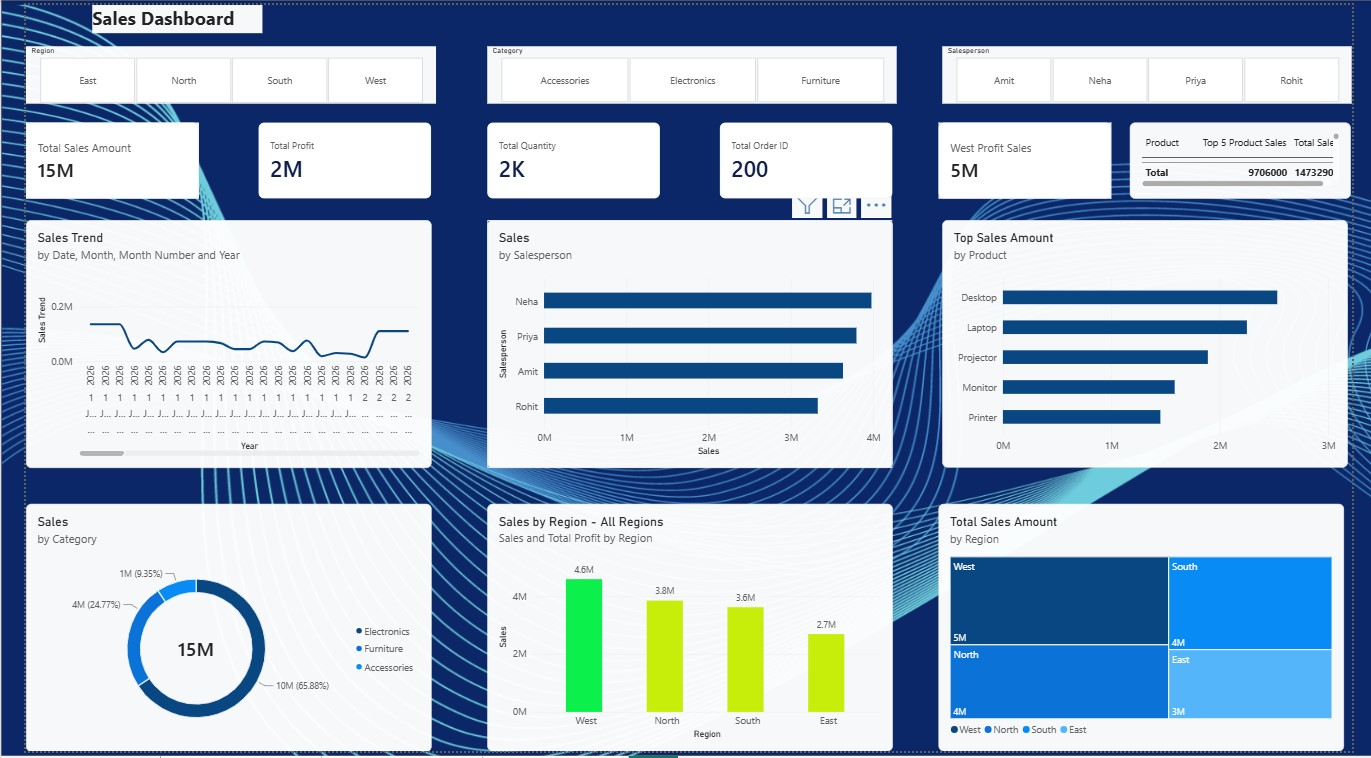

The dashboard page shown, as its layout file describes it:
{"tool":"powerbi","page":{"name":"Final Dashboard","canvas":[1920,1080],"ordinal":1},"visuals":[{"type":"donutChart","fields":{"Category":["Row Data.Category"],"Y":["Sum(Row Data.Sales Amount)"]},"box":[0,722.1,587.5,358.9],"z":0},{"type":"lineChart","fields":{"Category":["Date Table.Date","Date Table.Month","Date Table.Month Number","Date Table.Year"],"Y":["Sum(Row Data.Sales Amount)"]},"box":[0,311.3,587,358.9],"z":1000},{"type":"clusteredBarChart","fields":{"Category":["Row Data.Salesperson"],"Y":["Sum(Row Data.Sales Amount)"]},"box":[667.8,311.3,587,358.9],"z":2000},{"type":"clusteredColumnChart","fields":{"Category":["Row Data.Region"],"Y":["Sum(Row Data.Sales Amount)"]},"box":[667.8,722.1,587,358],"z":3000},{"type":"cardVisual","fields":{"Data":["Sum(Row Data.Sales Amount)"]},"box":[0,170.1,250,110],"z":4000},{"type":"cardVisual","fields":{"Data":["Sum(Row Data.Profit)"]},"box":[336.6,170.1,250,110],"z":5000},{"type":"cardVisual","fields":{"Data":["Sum(Row Data.Quantity)"]},"box":[667.8,170.1,250,110],"z":6000},{"type":"cardVisual","fields":{"Data":["CountNonNull(Row Data.Order ID)"]},"box":[1004.4,170.1,250,110],"z":7000},{"type":"textbox","box":[96.4,0,246.4,41.1],"z":8000},{"type":"slicer","fields":{"Values":["Row Data.Region"]},"box":[0,59.7,593.6,83.2],"z":9000},{"type":"slicer","fields":{"Values":["Row Data.Category"]},"box":[667.8,59.7,593,83],"z":10000},{"type":"slicer","fields":{"Values":["Row Data.Salesperson"]},"box":[1326.5,59.7,593,83],"z":11000},{"type":"clusteredBarChart","fields":{"Category":["Row Data.Product"],"Y":["Sum(Row Data.Sales Amount)"]},"box":[1326.5,311.3,587,358.3],"z":12000},{"type":"treemap","fields":{"Group":["Row Data.Region"],"Values":["Sum(Row Data.Sales Amount)"]},"box":[1321.1,722.1,587,358.3],"z":13000},{"type":"cardVisual","fields":{"Data":["Row Data.West Profit Sales"]},"box":[1321.1,170.1,250,110],"z":14000},{"type":"tableEx","fields":{"Values":["Row Data.Product","Row Data.Top 5 Product Sales","Row Data.Total Sales"]},"box":[1597.9,170.1,320.3,110.4],"z":14001}]}

Visuals, with their boxes in screenshot pixels (x1, y1, x2, y2), scaled from the page's 1920x1080 canvas onto the 1371x758 screenshot:
donutChart - Row Data.Category x Sum(Row Data.Sales Amount): detection(0, 507, 420, 757)
lineChart - Date Table.Date x Date Table.Month: detection(0, 218, 419, 470)
clusteredBarChart - Row Data.Salesperson x Sum(Row Data.Sales Amount): detection(477, 218, 896, 470)
clusteredColumnChart - Row Data.Region x Sum(Row Data.Sales Amount): detection(477, 507, 896, 757)
cardVisual - Sum(Row Data.Sales Amount): detection(0, 119, 179, 197)
cardVisual - Sum(Row Data.Profit): detection(240, 119, 419, 197)
cardVisual - Sum(Row Data.Quantity): detection(477, 119, 655, 197)
cardVisual - CountNonNull(Row Data.Order ID): detection(717, 119, 896, 197)
textbox: detection(69, 0, 245, 29)
slicer - Row Data.Region: detection(0, 42, 424, 100)
slicer - Row Data.Category: detection(477, 42, 900, 100)
slicer - Row Data.Salesperson: detection(947, 42, 1370, 100)
clusteredBarChart - Row Data.Product x Sum(Row Data.Sales Amount): detection(947, 218, 1366, 470)
treemap - Row Data.Region x Sum(Row Data.Sales Amount): detection(943, 507, 1363, 757)
cardVisual - Row Data.West Profit Sales: detection(943, 119, 1122, 197)
tableEx - Row Data.Product x Row Data.Top 5 Product Sales: detection(1141, 119, 1370, 197)
